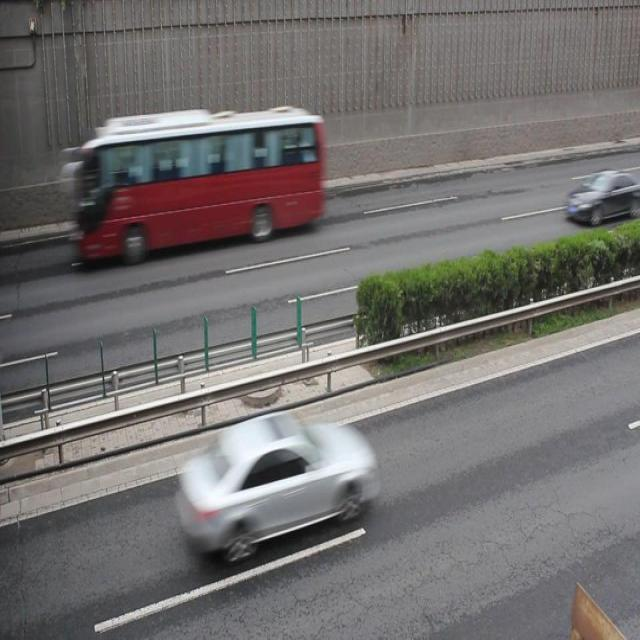car: (176, 414, 373, 560), (565, 171, 640, 225)
van: (71, 112, 324, 264)
